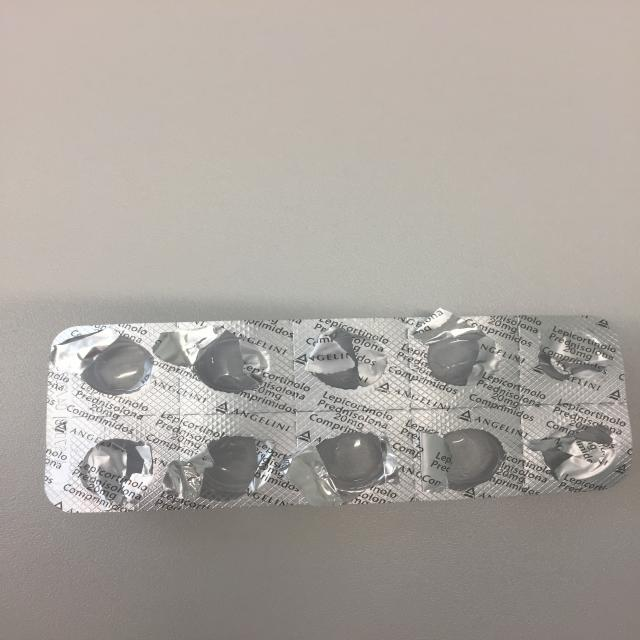Empty: (62, 432, 164, 507), (183, 328, 286, 401), (187, 428, 280, 503), (300, 326, 390, 399), (301, 429, 398, 496), (420, 325, 515, 392), (62, 334, 156, 401), (533, 322, 621, 392), (426, 423, 513, 492), (537, 421, 616, 490)
